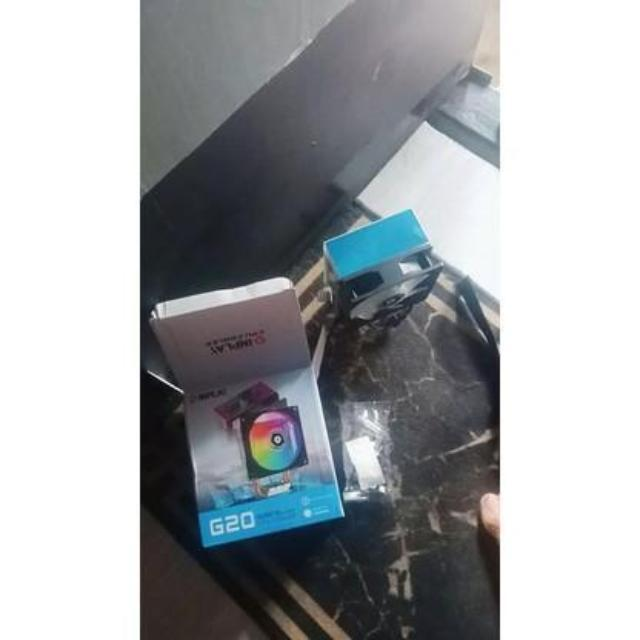CPU_Fan: (324, 205, 447, 344)
